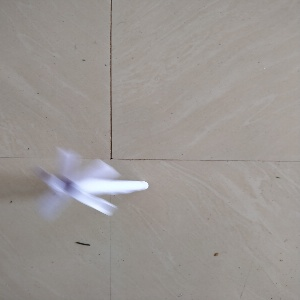weed: (39, 157, 151, 217)
